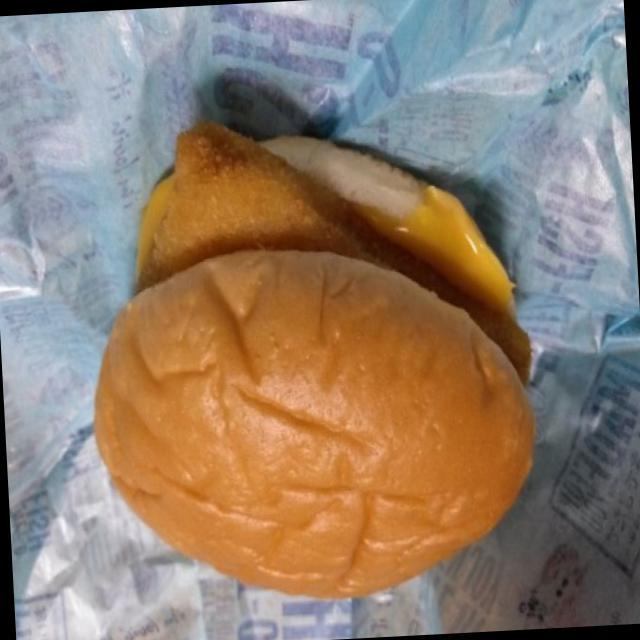Hamburger: (61, 94, 552, 624)
